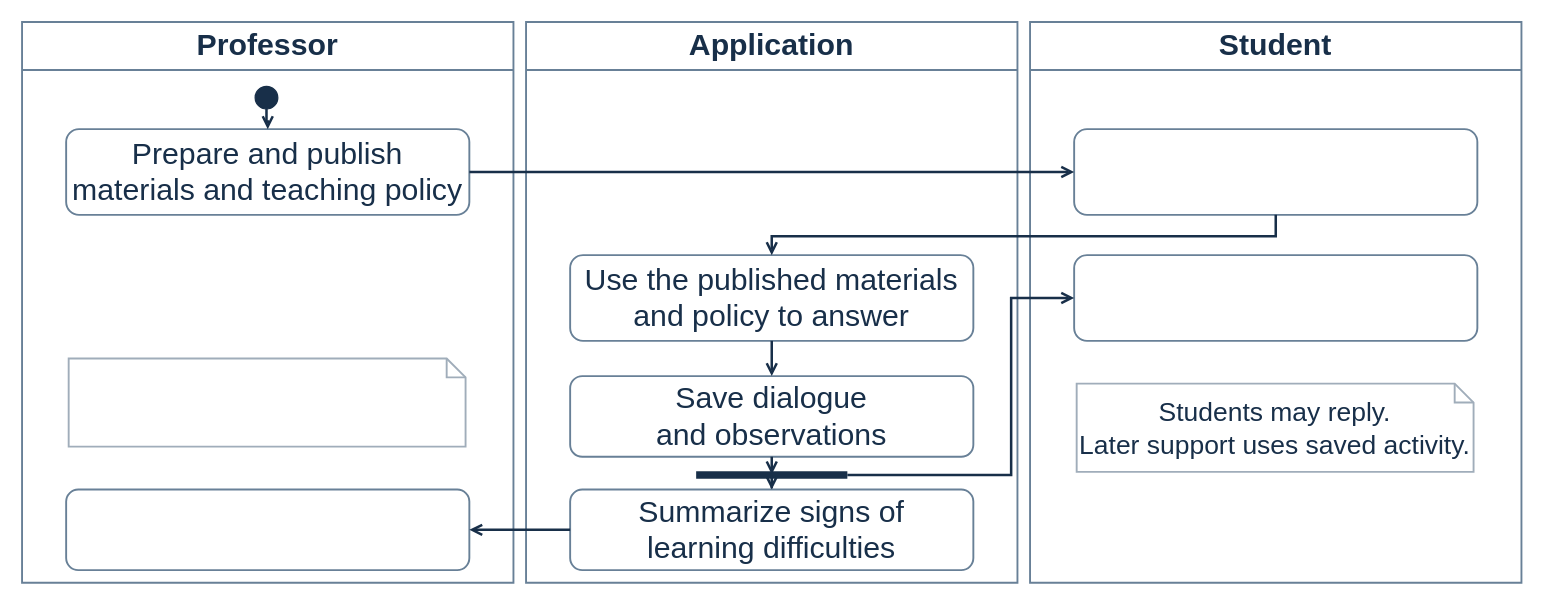
Image size: 1545x606. Some labels were removed from this diagram. The centre of each missing label's shape, as x and y in pixels:
"Ask a course question" goes at (1275,171).
"Receive the answer" goes at (1275,297).
"Review is optional. Not approval of every reply." goes at (266,402).
"Review results; revise teaching settings" goes at (267,529).
